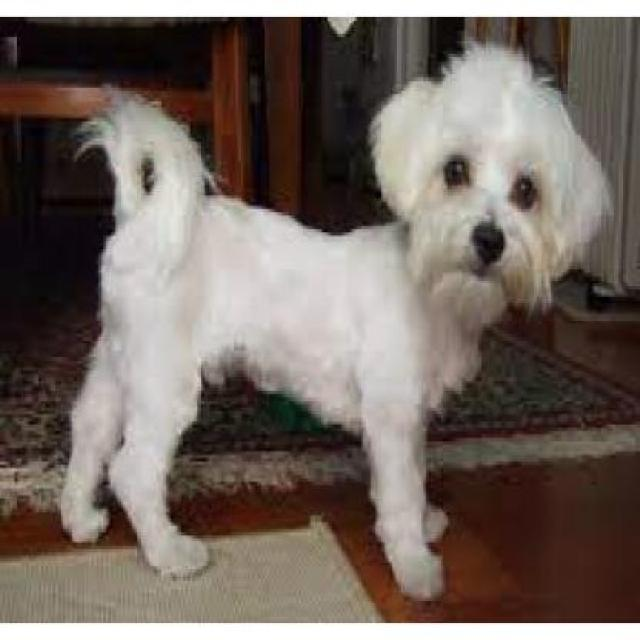Dog: (58, 54, 612, 598)
